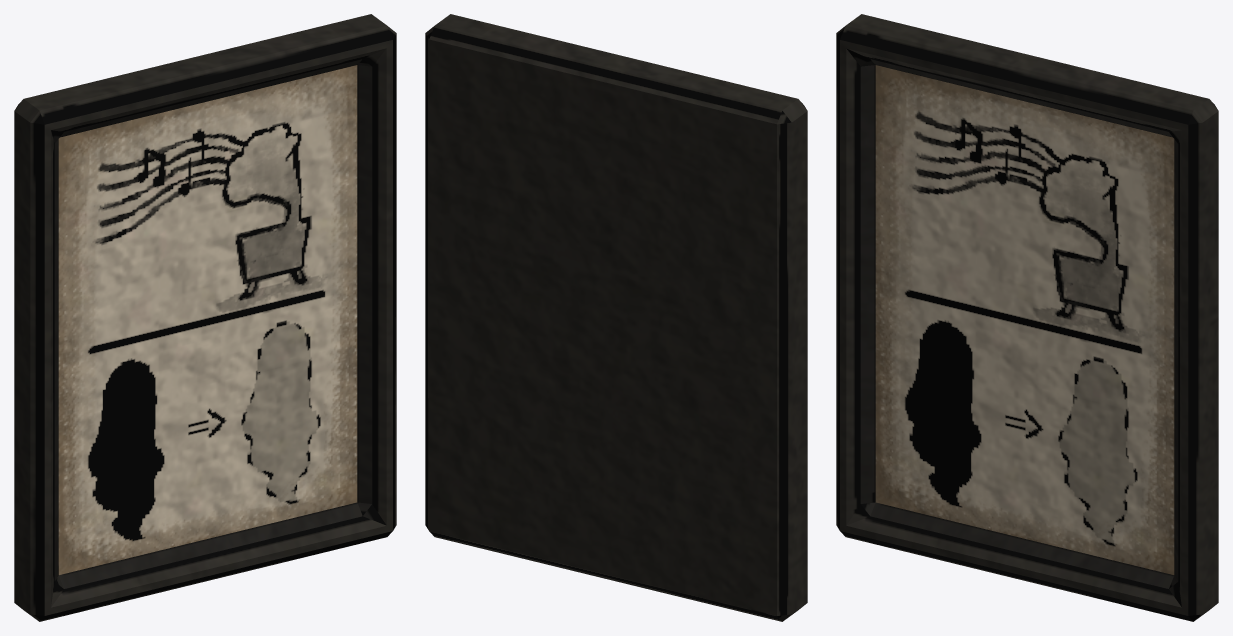
3 renders of one model, left to right at view 1: azimuth 30°, elevation 25°; view 2: azimuth 150°, elevation 25°; view 3: azimuth 330°, elevation 25°, orthographic.
Visible parts, largest first — view 1: 相框.002; view 2: 相框.002; view 3: 相框.002.
Boxes of the visible parts, bbox=[...] form: 相框.002: bbox=[14, 14, 396, 621]; 相框.002: bbox=[425, 14, 807, 621]; 相框.002: bbox=[836, 14, 1218, 621].
Bounding box in the file's own units: 16.5 × 22 × 2.09.
1 material, 1 textured.
